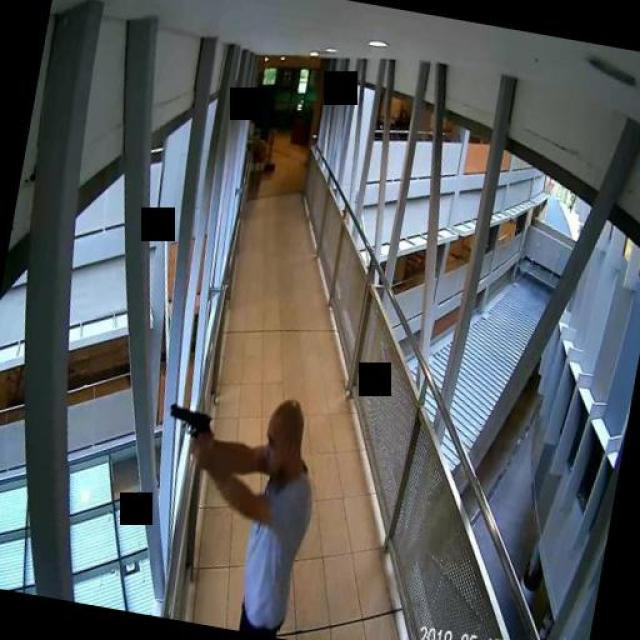gun: (156, 395, 222, 471)
